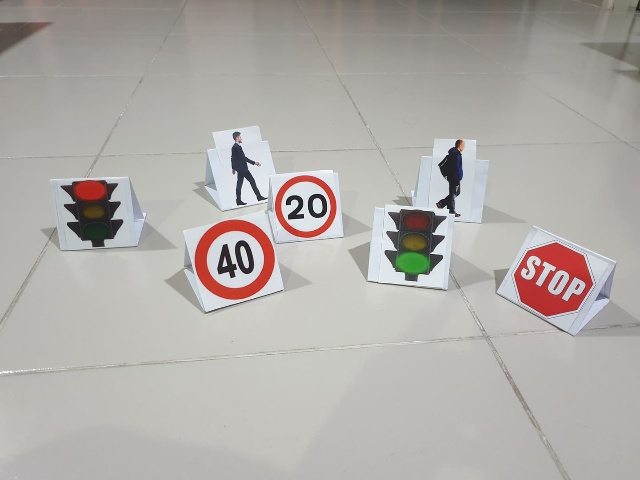Green: (383, 208, 446, 282)
Limit 20: (271, 173, 339, 238)
Limit 40: (190, 226, 277, 299)
Person: (219, 128, 268, 206), (430, 141, 467, 217)
Red: (56, 178, 133, 248)
Stop: (515, 234, 592, 319)
